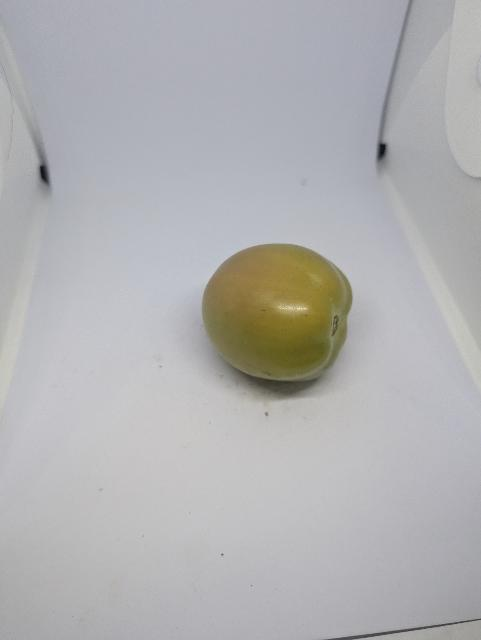breaker: (202, 244, 353, 381)
